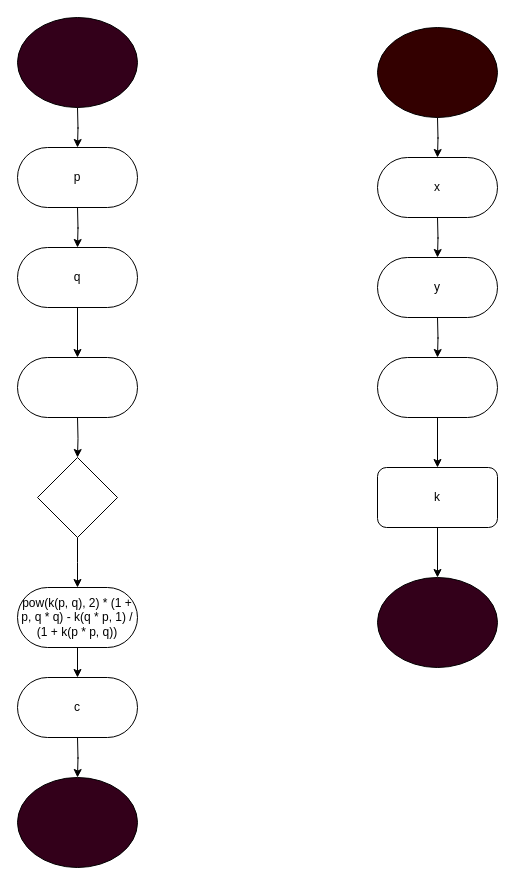
This 515x885 diagram has some shape labels left out. The box of each missing label's shape, as (x1, y1, x2, y2) in pixels:
(sin(x ) / ( y * y )) + (cos( y ) / ( x * x )): (376, 356, 498, 418)
k(p,q): (16, 356, 138, 418)
Прийняття рішення: (36, 456, 118, 538)
